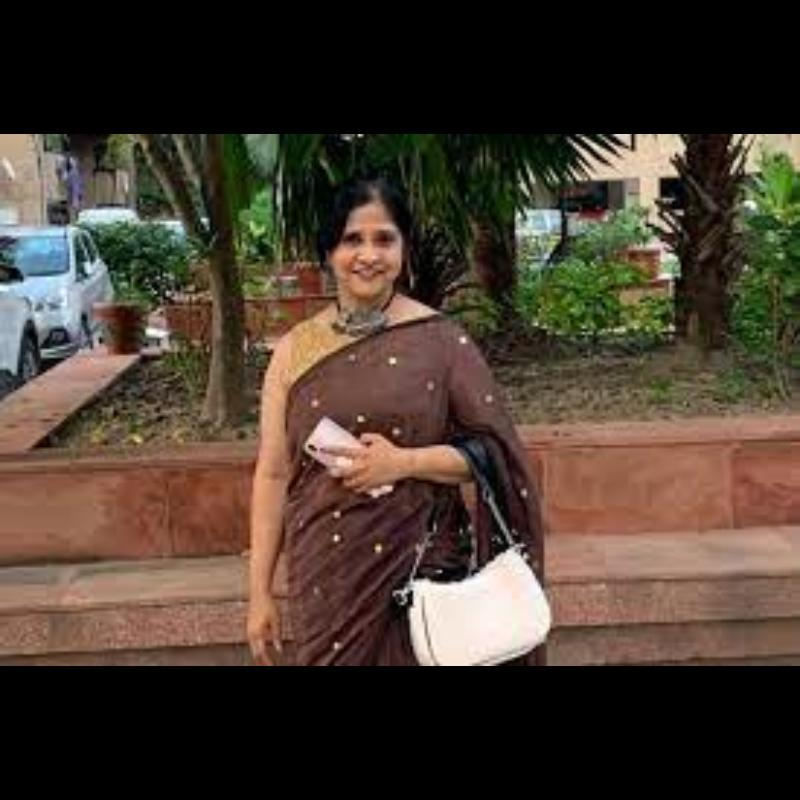Saree: (218, 312, 574, 666)
